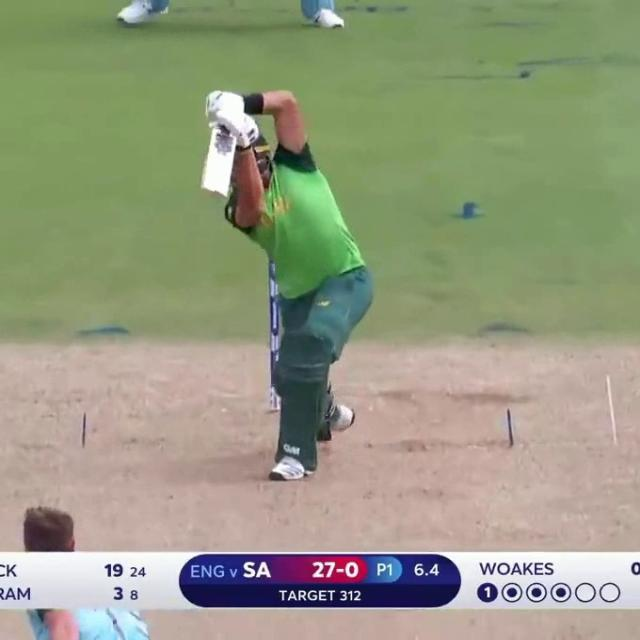bat: (199, 123, 237, 199)
toe: (197, 187, 226, 198)
